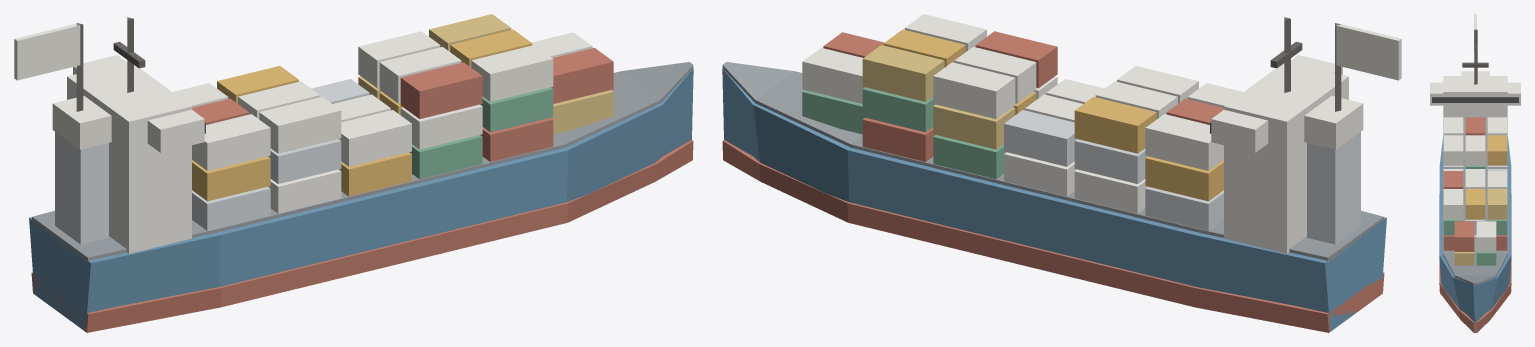
The model's file is trader.glb.
3 views of the same model, side by side, from view 1: azimuth 30°, elevation 25°; view 2: azimuth 150°, elevation 25°; view 3: azimuth 270°, elevation 25° (orthographic). The views are drawn at different scales.
Parts seen in each view (by area): view 1: modern_trader; view 2: modern_trader; view 3: modern_trader.
Boxes of the visible parts, x1,y1,x2,y2 form: modern_trader: [14, 14, 693, 332]; modern_trader: [722, 14, 1401, 332]; modern_trader: [1430, 14, 1520, 332].
Size of the model in its own units: 0.9995 by 0.4017 by 0.2242.
